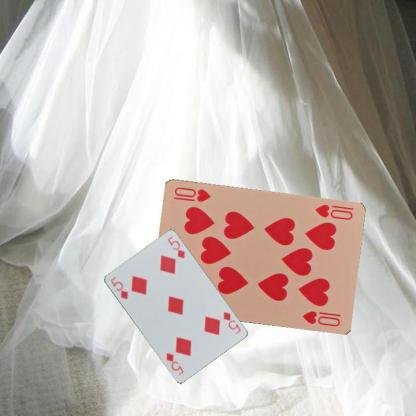10h: (312, 202, 354, 221)
5d: (220, 309, 242, 335), (108, 274, 129, 300)
